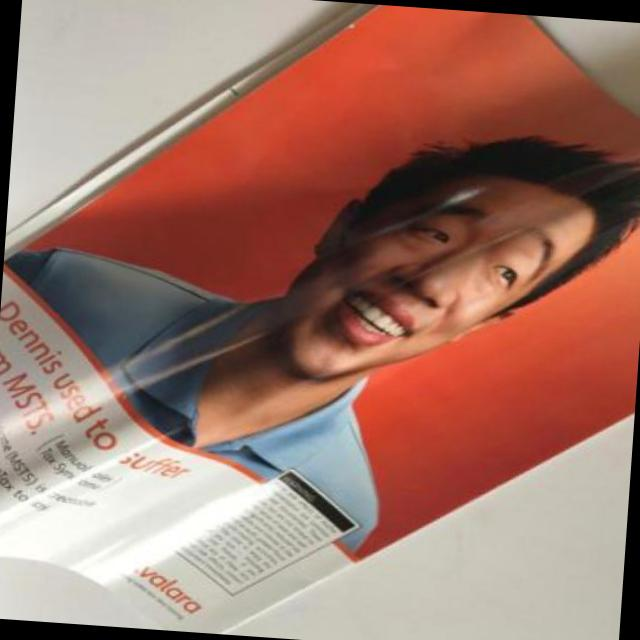cardboard paper: (0, 2, 640, 634)
